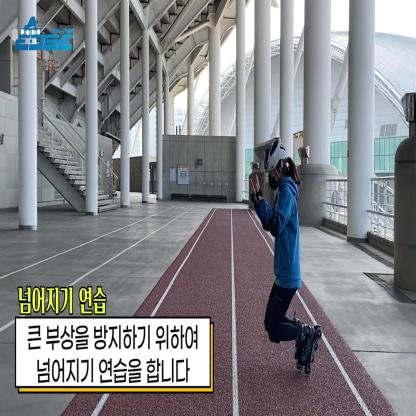Fall_Down: (249, 148, 319, 370)
